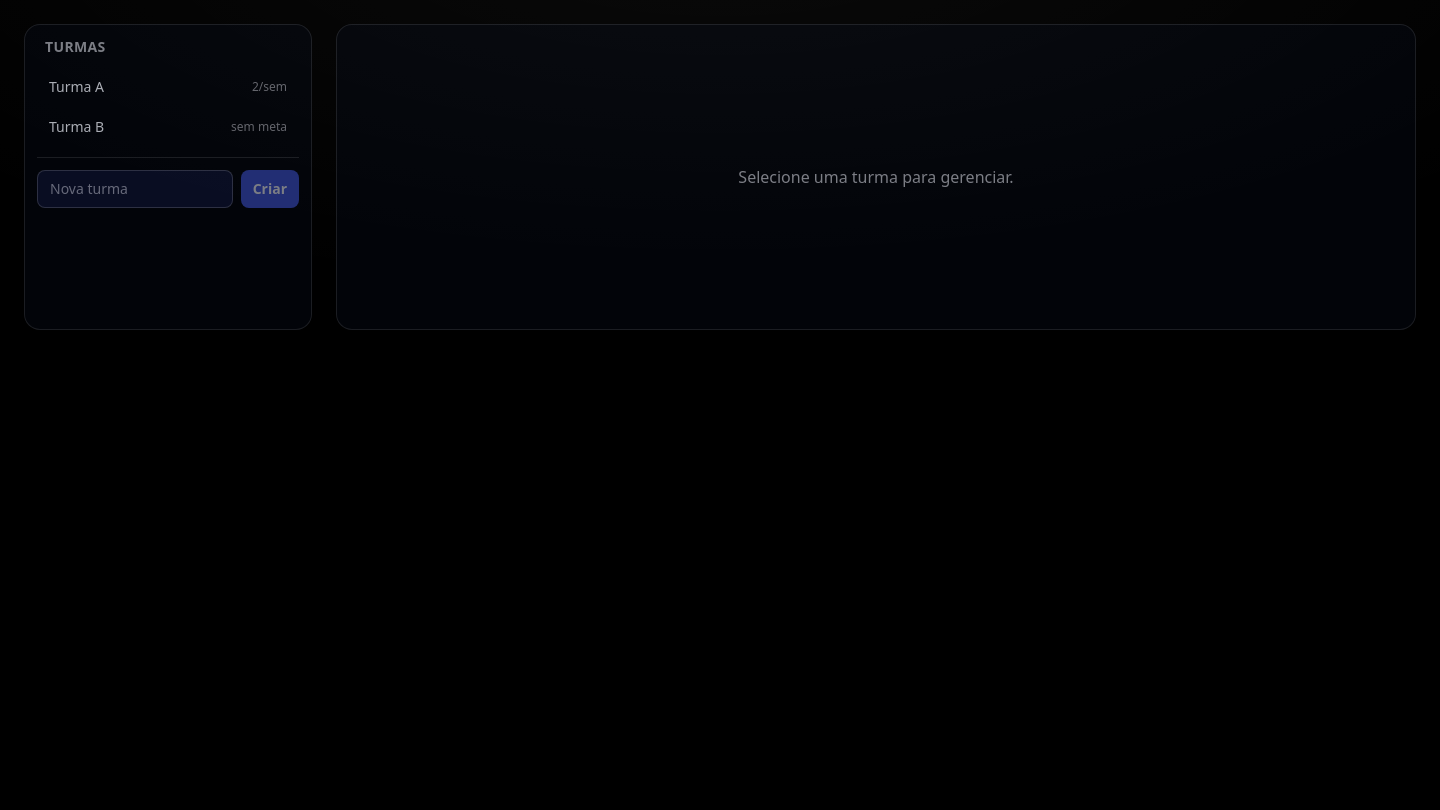
ManagerPage (G1) › selecionar uma turma abre o detalhe com o nome e a meta atual
The width and height of the screenshot is (1440, 810).
What coordinates should you click on to do the following:
click the button "Turma A 2/sem"
I would click on:
 (77, 86)
Its box is left=37, top=69, right=299, bottom=105.
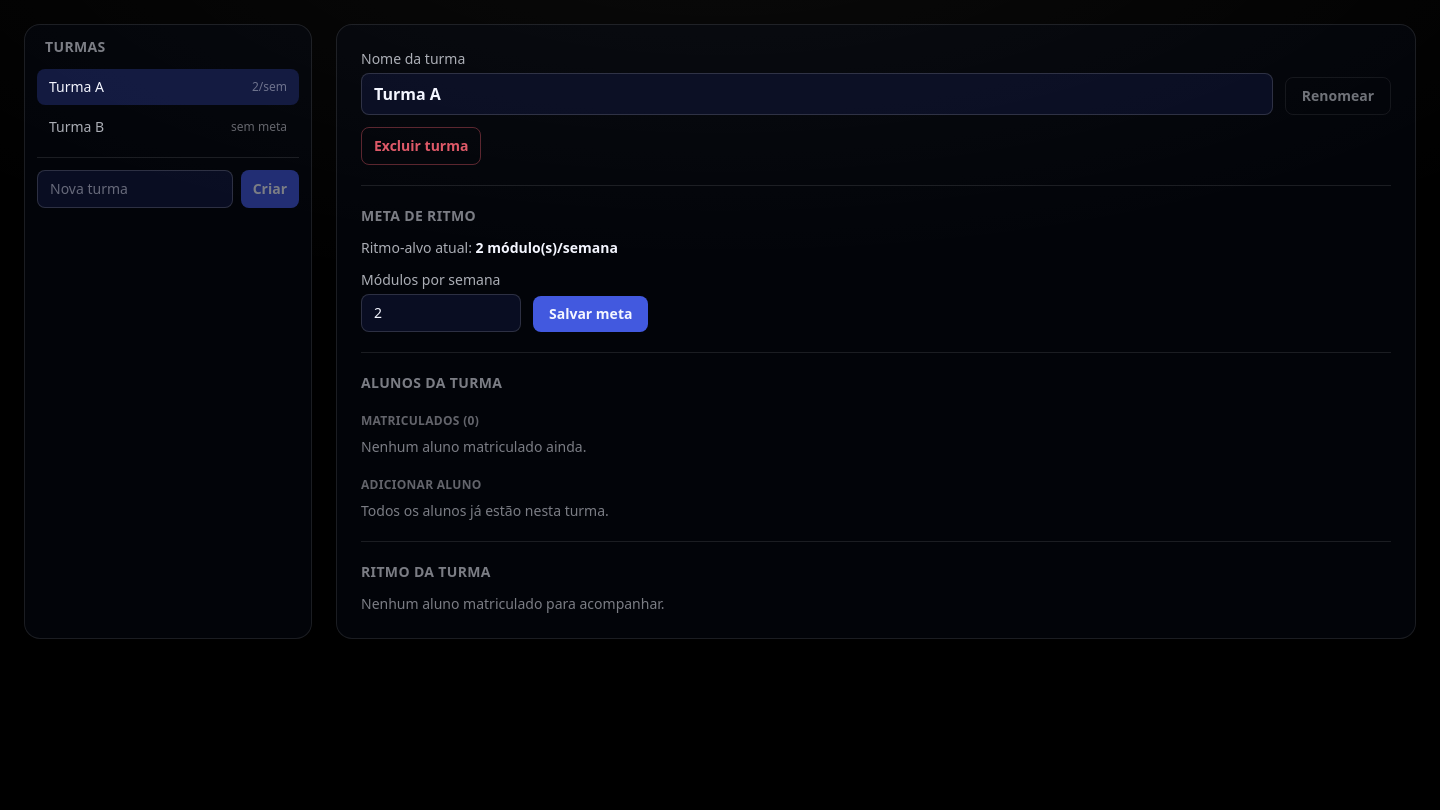
Now the field labelled "Nome da turma" holds "Turma A", box left=361, top=73, right=1273, bottom=115
Now the text "2 módulo(s)/semana" is shown, box left=476, top=238, right=618, bottom=257
